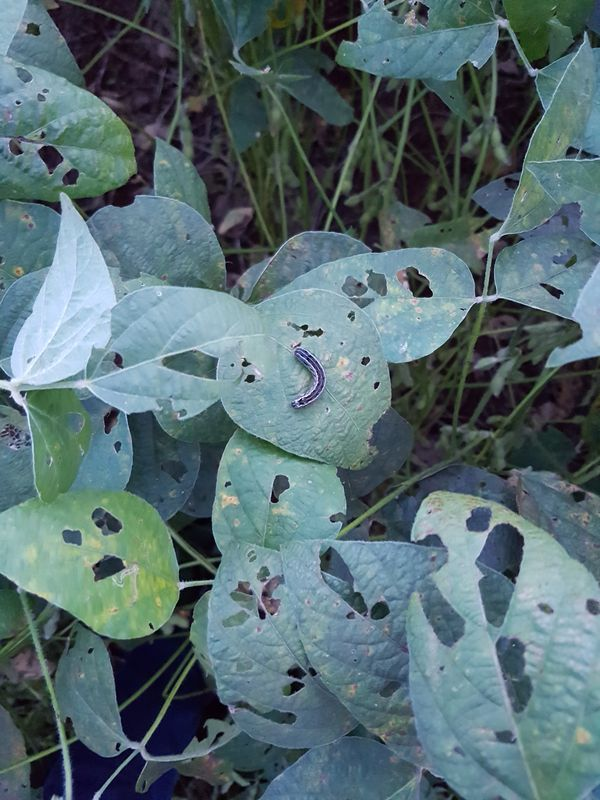Spodoptera_albula: (276, 341, 338, 415)
